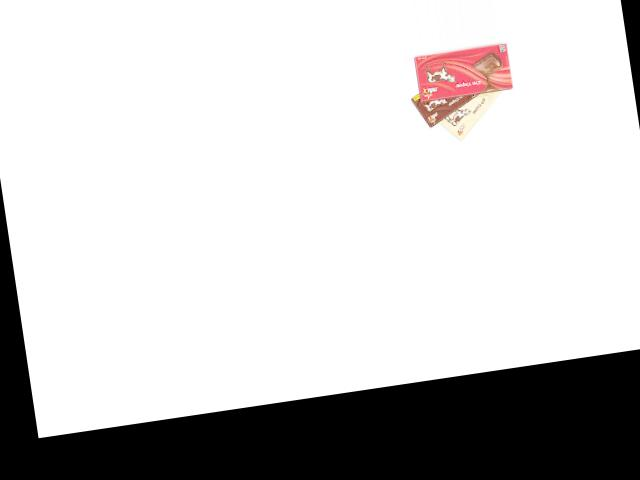chocolate: (423, 80, 517, 146)
